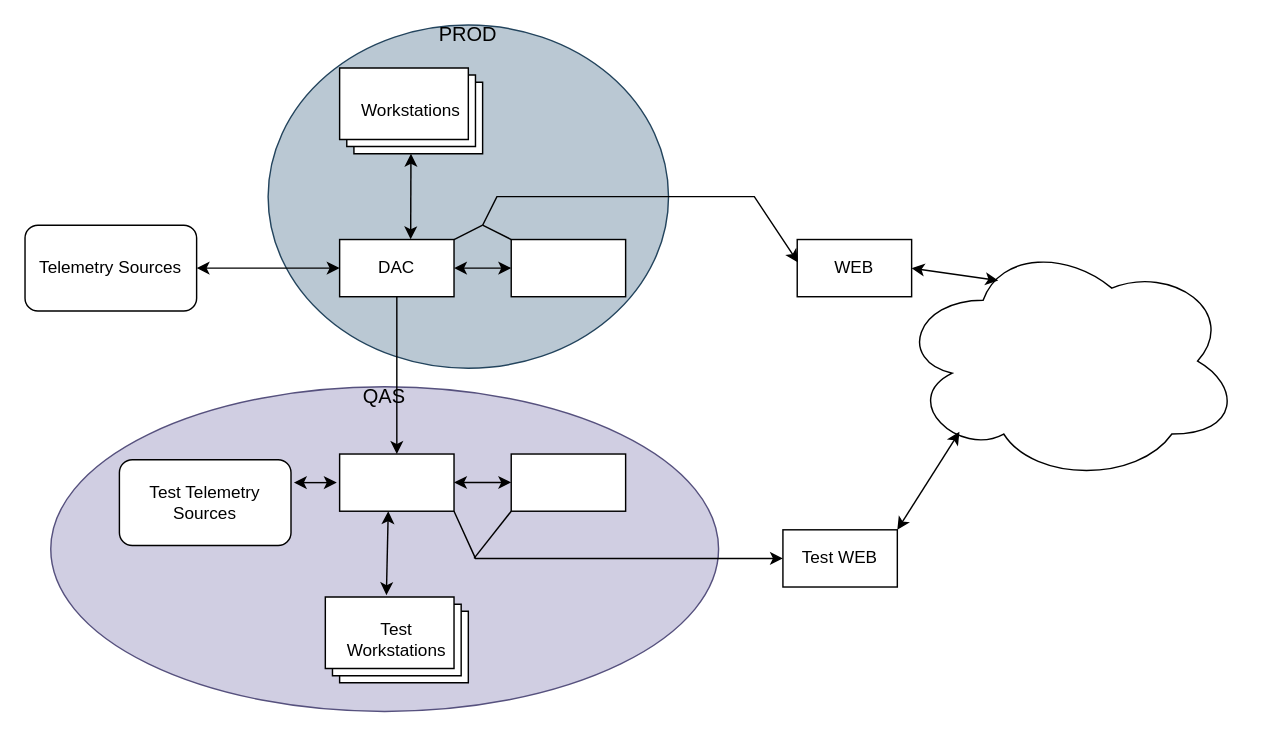
The diagram is 1266 pixels wide and 736 high, and some of its shapes have lost their labels. The shapes that lost their labels are listed below. From the top down, each one's centre as x and y in pixels, then its label:
pixel 568 267: HIS
pixel 1068 360: Internet
pixel 396 482: Test DAC
pixel 568 482: Test HIS
